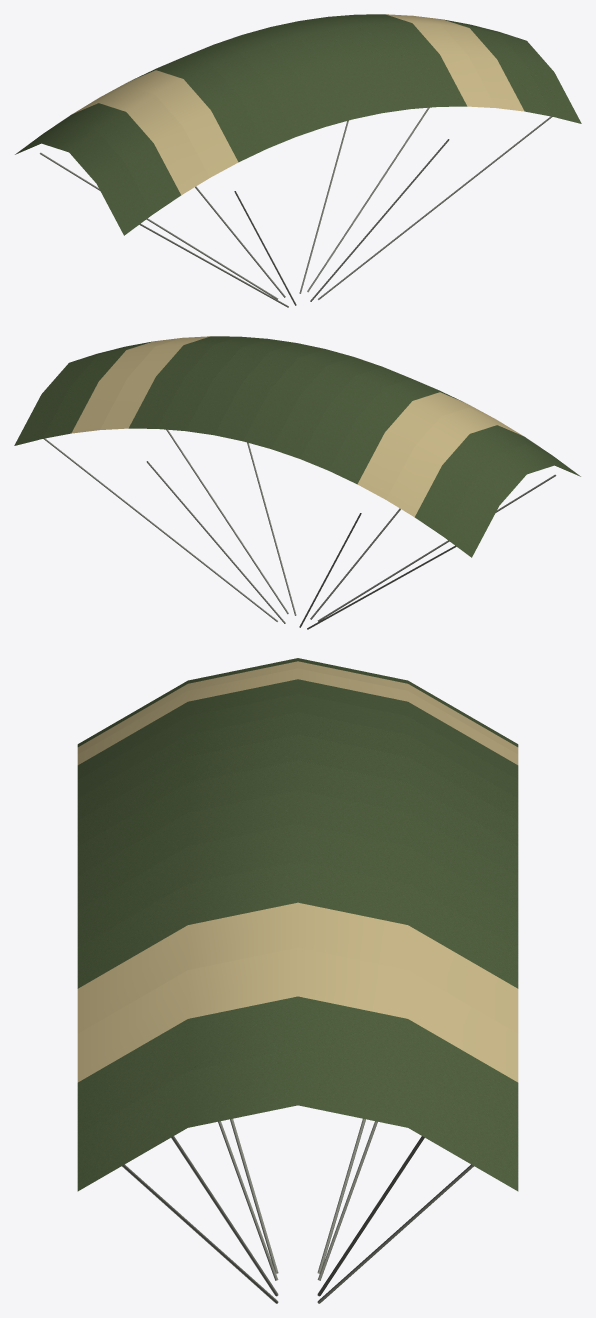
The model's file is canopy.glb.
3 views of the same model, one above another, from view 1: azimuth 30°, elevation 25°; view 2: azimuth 150°, elevation 25°; view 3: azimuth 270°, elevation 25° (orthographic). The views are drawn at different scales.
Parts seen in each view (by area): view 1: fabric_Olive ripstop, fabric_Ochre panels, fabric_Suspension cord; view 2: fabric_Olive ripstop, fabric_Ochre panels, fabric_Suspension cord; view 3: fabric_Olive ripstop, fabric_Ochre panels, fabric_Suspension cord.
Part boxes in pixels (x1,y1,x2,y2): fabric_Olive ripstop: (15,14,581,235); fabric_Ochre panels: (73,14,524,194); fabric_Suspension cord: (39,107,552,307); fabric_Olive ripstop: (14,336,580,557); fabric_Ochre panels: (71,336,522,516); fabric_Suspension cord: (43,429,556,629); fabric_Olive ripstop: (77,658,518,1191); fabric_Ochre panels: (77,661,518,1082); fabric_Suspension cord: (122,1118,473,1303).
Bounding box in the file's own units: 6 × 3.31 × 2.5.
Materials: 3 (1 with a texture image).
